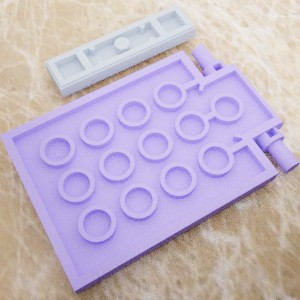lego: (0, 44, 299, 294), (44, 4, 196, 97)
